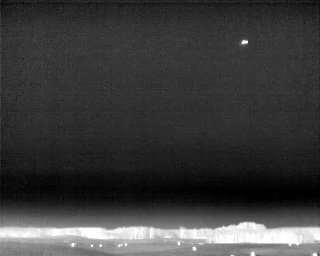AIRPLANE: (239, 36, 251, 48)
